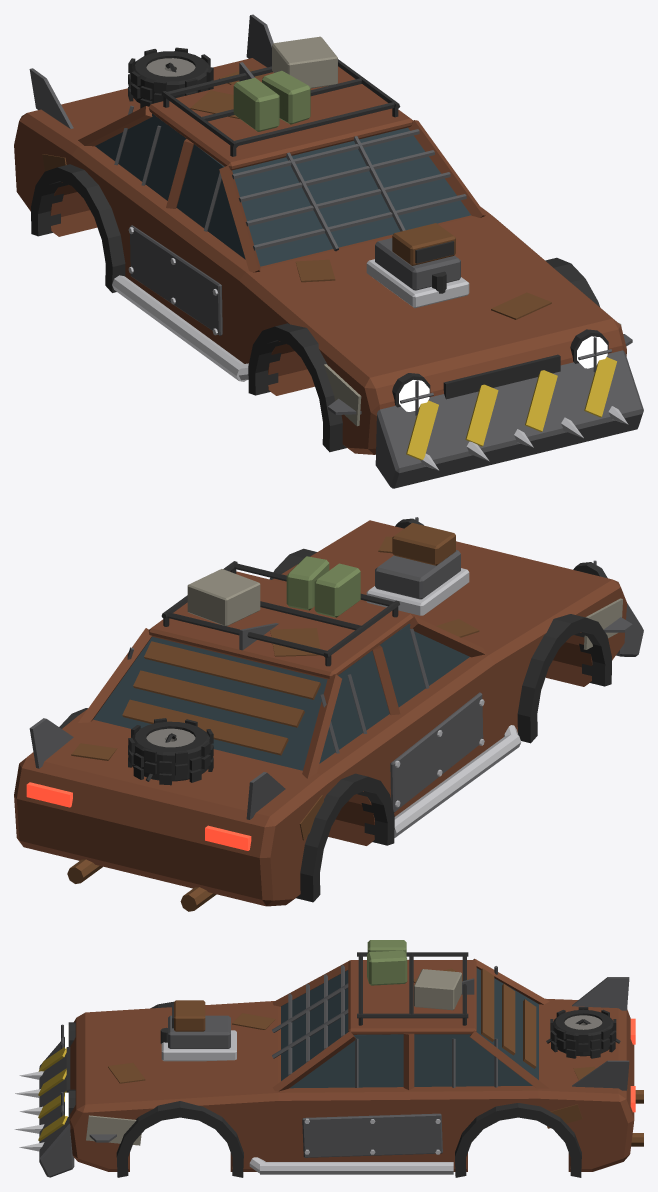
The model's file is apoc_car.glb.
The picture shows the model from 3 angles, top to bottom: view 1: azimuth 30°, elevation 25°; view 2: azimuth 150°, elevation 25°; view 3: azimuth 270°, elevation 25°; orthographic projection. The views are drawn at different scales.
Parts seen in each view (by area): view 1: body, cabin_glass, ram, roof, windshield_bars, door_plate_-1, ram_hazard, pillars, flare_F-1, flare_R-1, spare_tire, roof_rack (+17 smaller); view 2: body, cabin_glass, rear_boards, roof, door_plate_-1, spare_tire, pillars, flare_F-1, flare_R-1, roof_rack, crate, side_pipes (+13 smaller); view 3: body, cabin_glass, roof, door_plate_1, pillars, spare_tire, flare_F1, flare_R1, rear_boards, side_pipes, ram, windshield_bars (+15 smaller).
Part boxes in pixels (x1=…): body: x1=14, y1=58, x2=626, y2=454; cabin_glass: x1=95, y1=113, x2=470, y2=266; ram: x1=375, y1=350, x2=643, y2=488; roof: x1=149, y1=66, x2=413, y2=170; windshield_bars: x1=232, y1=129, x2=466, y2=251; door_plate_-1: x1=130, y1=225, x2=222, y2=335; ram_hazard: x1=406, y1=357, x2=616, y2=460; pillars: x1=78, y1=106, x2=485, y2=272; flare_F-1: x1=248, y1=323, x2=346, y2=452; flare_R-1: x1=31, y1=164, x2=125, y2=292; spare_tire: x1=128, y1=47, x2=213, y2=108; roof_rack: x1=161, y1=59, x2=400, y2=156; body: x1=14, y1=520, x2=626, y2=906; cabin_glass: x1=93, y1=623, x2=469, y2=770; rear_boards: x1=122, y1=641, x2=320, y2=755; roof: x1=148, y1=571, x2=413, y2=679; door_plate_-1: x1=390, y1=692, x2=483, y2=812; spare_tire: x1=128, y1=718, x2=213, y2=785; pillars: x1=78, y1=616, x2=485, y2=778; flare_F-1: x1=517, y1=614, x2=611, y2=743; flare_R-1: x1=296, y1=773, x2=394, y2=902; roof_rack: x1=161, y1=561, x2=399, y2=666; crate: x1=187, y1=569, x2=260, y2=626; side_pipes: x1=394, y1=725, x2=521, y2=837; body: x1=69, y1=998, x2=634, y2=1171; cabin_glass: x1=281, y1=968, x2=538, y2=1088; roof: x1=348, y1=960, x2=476, y2=1034; door_plate_1: x1=302, y1=1113, x2=442, y2=1157; pillars: x1=272, y1=958, x2=549, y2=1091; spare_tire: x1=550, y1=1007, x2=616, y2=1058; flare_F1: x1=116, y1=1101, x2=243, y2=1177; flare_R1: x1=455, y1=1103, x2=581, y2=1177; rear_boards: x1=481, y1=968, x2=536, y2=1068; side_pipes: x1=249, y1=1157, x2=453, y2=1174; ram: x1=39, y1=1037, x2=74, y2=1177; windshield_bars: x1=272, y1=965, x2=348, y2=1075.
Size of the model in its own units: 2.2 by 1.57 by 5.2.
